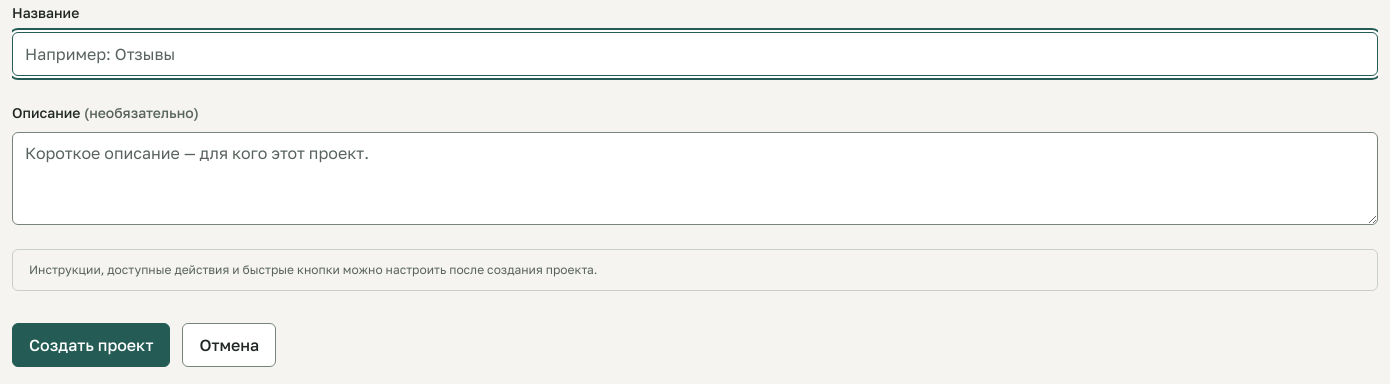
it: ProjectForm › shows immediate busy wording while project creation is pending
In the field labelled "Название": (695, 54) [12,32,1378,76], type "Новый проект"
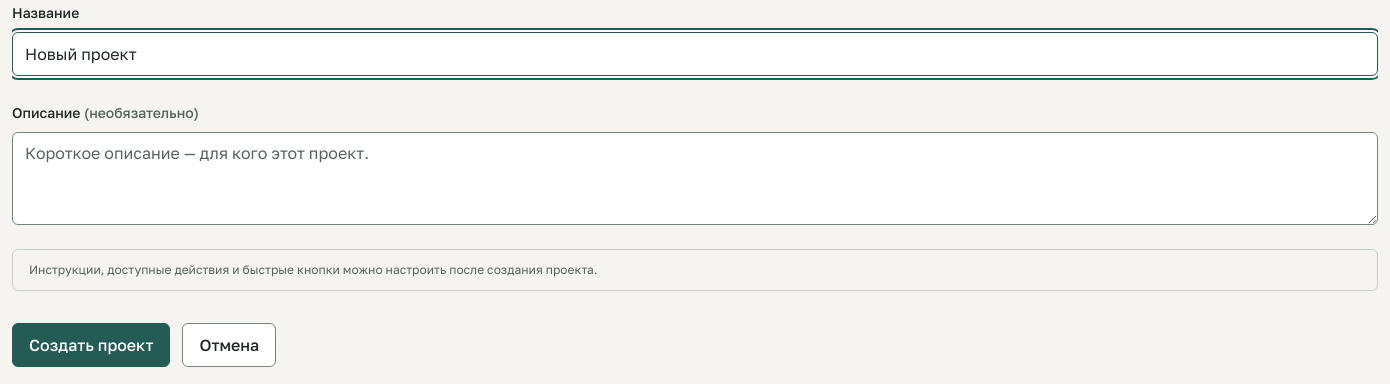
Click the button "Создать проект": (91, 345) [12,323,170,367]
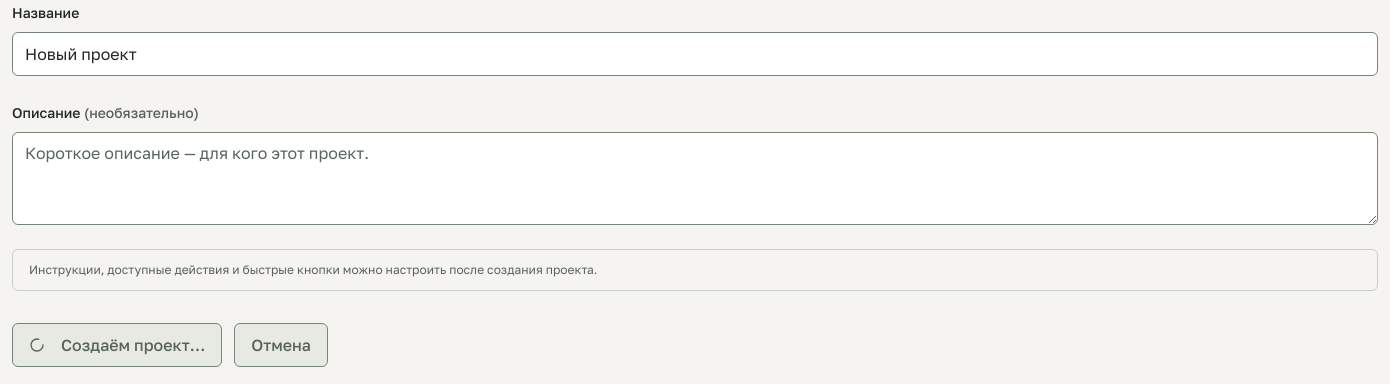
Expected: the button "Создаём проект…" is disabled, [12,323,222,367]
